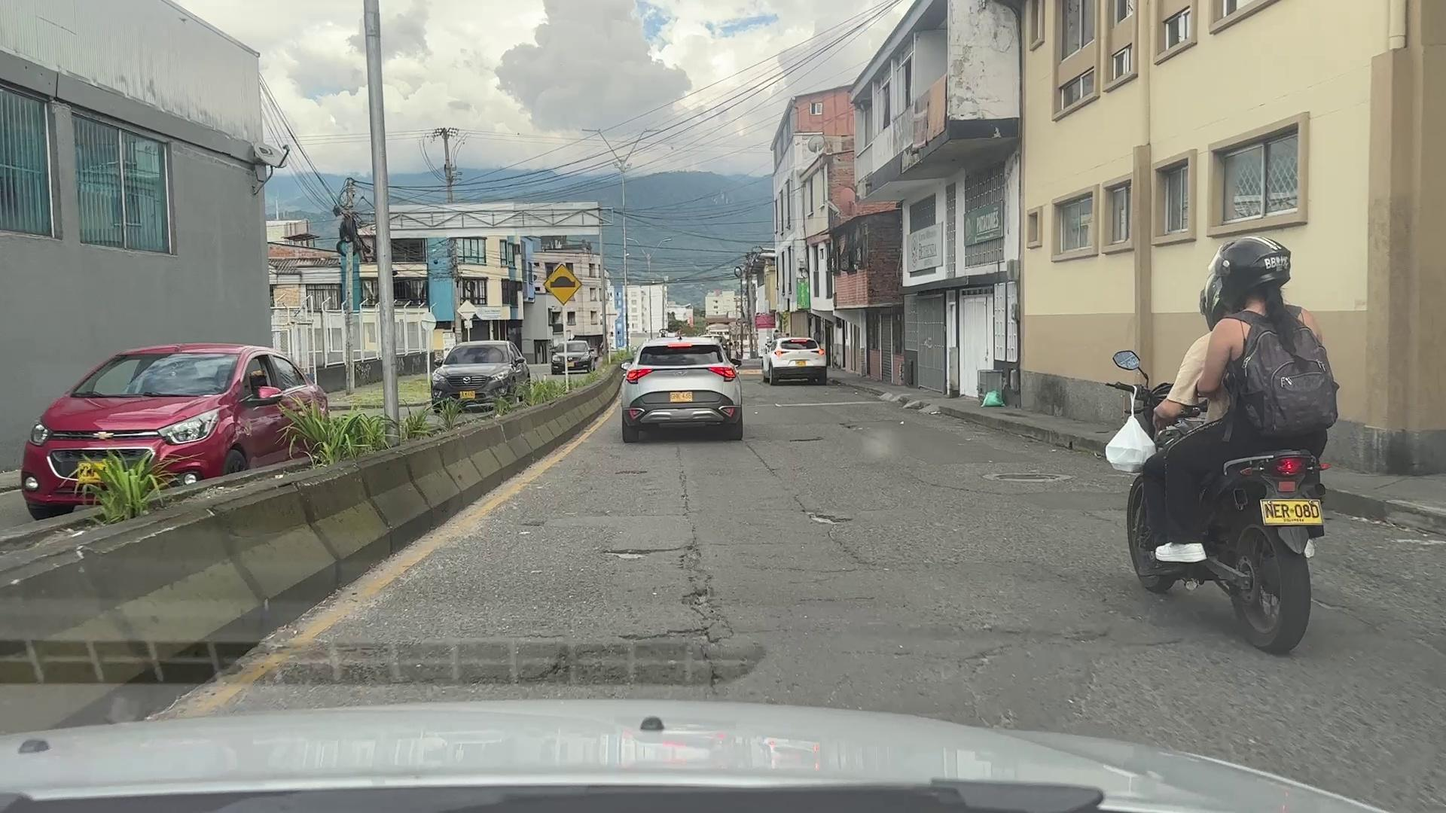bache: (802, 510, 852, 524), (609, 552, 644, 560), (791, 437, 822, 442), (616, 470, 645, 474)
grieta: (621, 540, 732, 641), (676, 450, 696, 539), (746, 445, 779, 479), (701, 647, 723, 694)
registro: (994, 474, 1059, 480)
